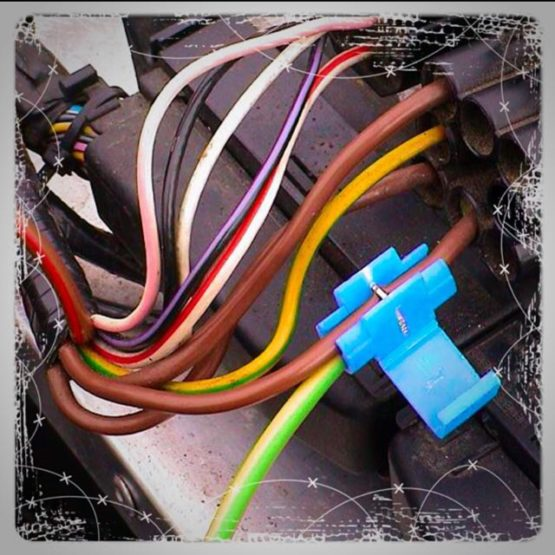Nonrec_Tangler: (29, 43, 531, 472)
